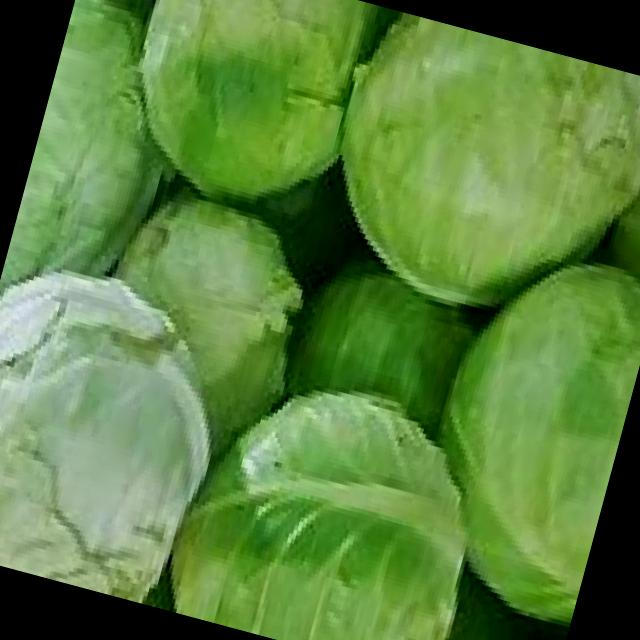cabbage: (307, 4, 640, 343), (162, 356, 501, 640), (0, 245, 240, 608), (113, 0, 378, 232)
